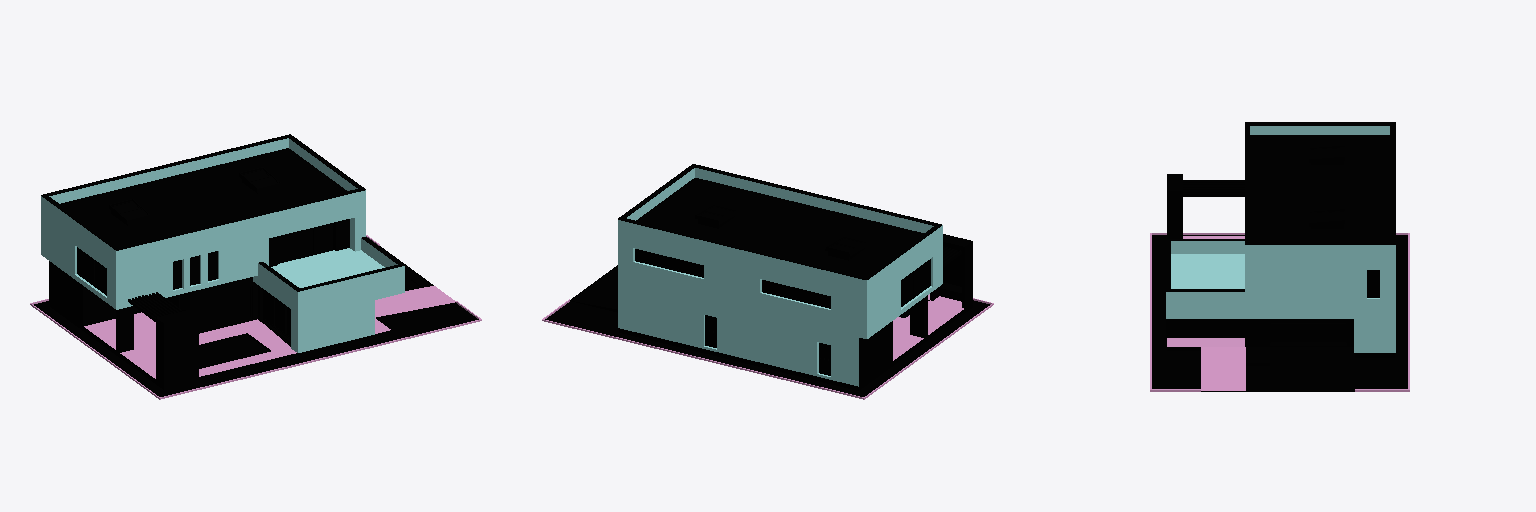
The model's file is modern_house_3.obj.
The picture shows the model from 3 angles: view 1: azimuth 30°, elevation 25°; view 2: azimuth 150°, elevation 25°; view 3: azimuth 270°, elevation 25°; orthographic projection.
Visible parts, largest first — view 1: modern_house_3_1, modern_house_3_3, modern_house_3_2, modern_house_3_4; view 2: modern_house_3_1, modern_house_3_3, modern_house_3_2, modern_house_3_4; view 3: modern_house_3_1, modern_house_3_3, modern_house_3_2, modern_house_3_4.
Boxes of the visible parts, x1,y1,x2,y2 form: modern_house_3_1: [41, 134, 404, 384]; modern_house_3_3: [30, 235, 481, 399]; modern_house_3_2: [77, 223, 333, 339]; modern_house_3_4: [109, 167, 280, 225]; modern_house_3_1: [618, 164, 972, 390]; modern_house_3_3: [542, 265, 993, 399]; modern_house_3_2: [635, 249, 930, 375]; modern_house_3_4: [695, 205, 867, 260]; modern_house_3_1: [1166, 122, 1395, 357]; modern_house_3_3: [1150, 233, 1409, 391]; modern_house_3_2: [1207, 270, 1379, 342]; modern_house_3_4: [1309, 145, 1344, 228].
Bounding box in the file's own units: 825 × 278 × 574.